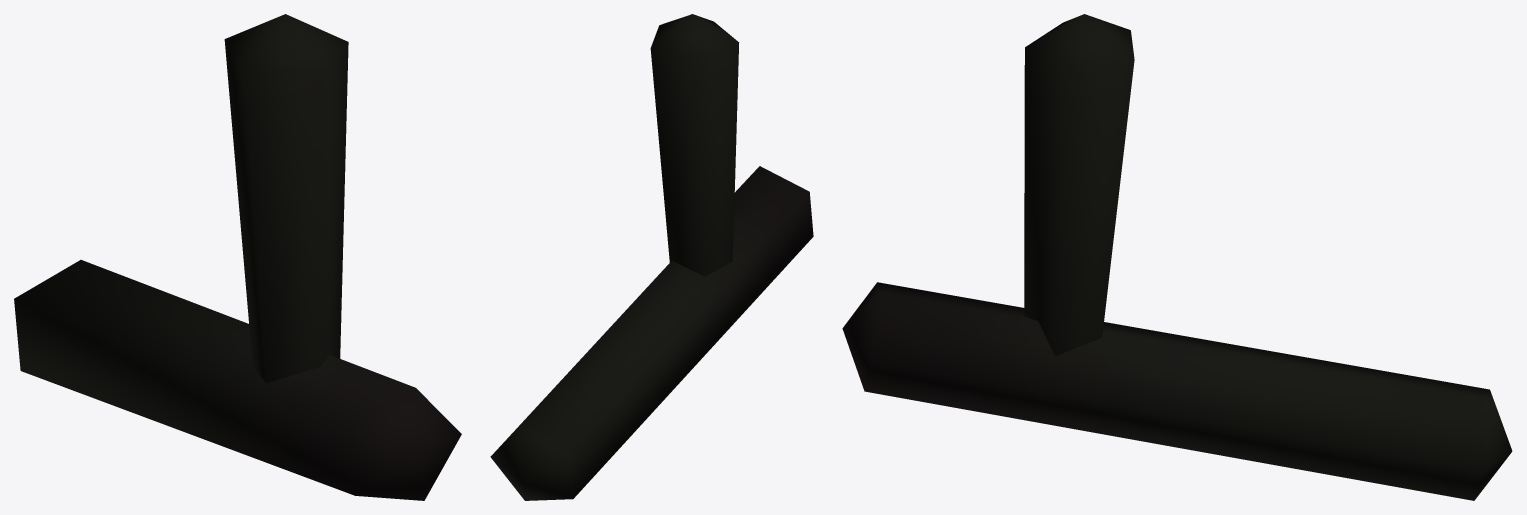
The model's file is w_policebatton.FBX.
The picture shows the model from 3 angles, left to right: view 1: azimuth 30°, elevation 25°; view 2: azimuth 150°, elevation 25°; view 3: azimuth 270°, elevation 25°; orthographic projection. The views are drawn at different scales.
Visible parts, largest first — view 1: w_policebatton; view 2: w_policebatton; view 3: w_policebatton.
Part boxes in pixels (x1,y1,x2,y2): w_policebatton: [14, 14, 461, 500]; w_policebatton: [490, 14, 813, 500]; w_policebatton: [842, 14, 1512, 500].
Size of the model in its own units: 4.66 by 20.35 by 25.83.
Materials: 1 (1 with a texture image).
